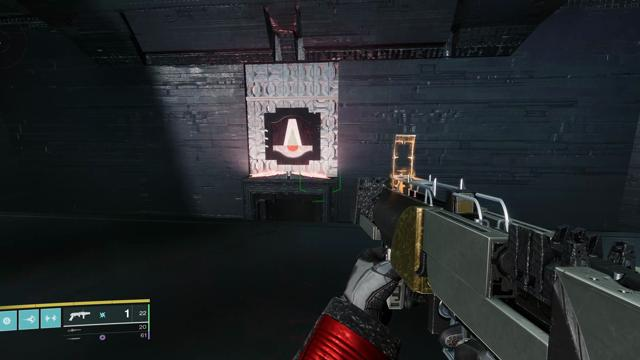enter: (271, 114, 315, 158)
